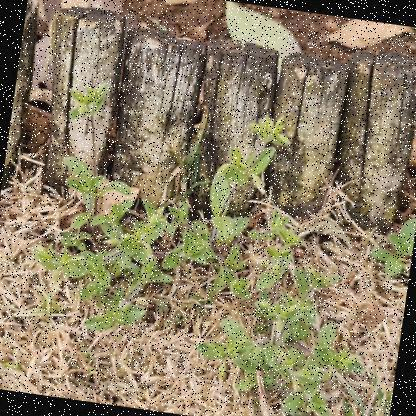Weeds: (14, 73, 398, 415), (365, 210, 415, 286)
